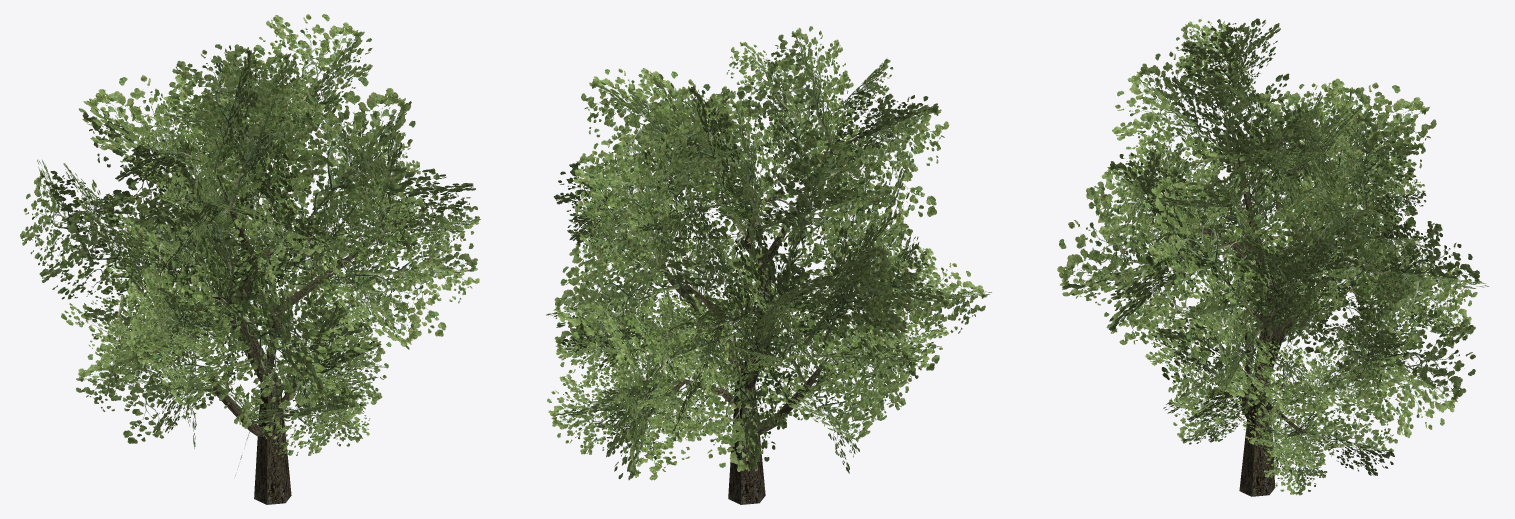
File: tree_j.FBX
3 views of the same model, side by side, from view 1: azimuth 30°, elevation 25°; view 2: azimuth 150°, elevation 25°; view 3: azimuth 270°, elevation 25° (orthographic). The views are drawn at different scales.
Parts seen in each view (by area): view 1: tree_j; view 2: tree_j; view 3: tree_j.
Part boxes in pixels (bbox=[...]): tree_j: bbox=[20, 14, 480, 504]; tree_j: bbox=[546, 26, 991, 504]; tree_j: bbox=[1057, 18, 1488, 496].
Size of the model in its own units: 15.3 by 16.75 by 15.34.
Materials: 2 (2 with a texture image).
